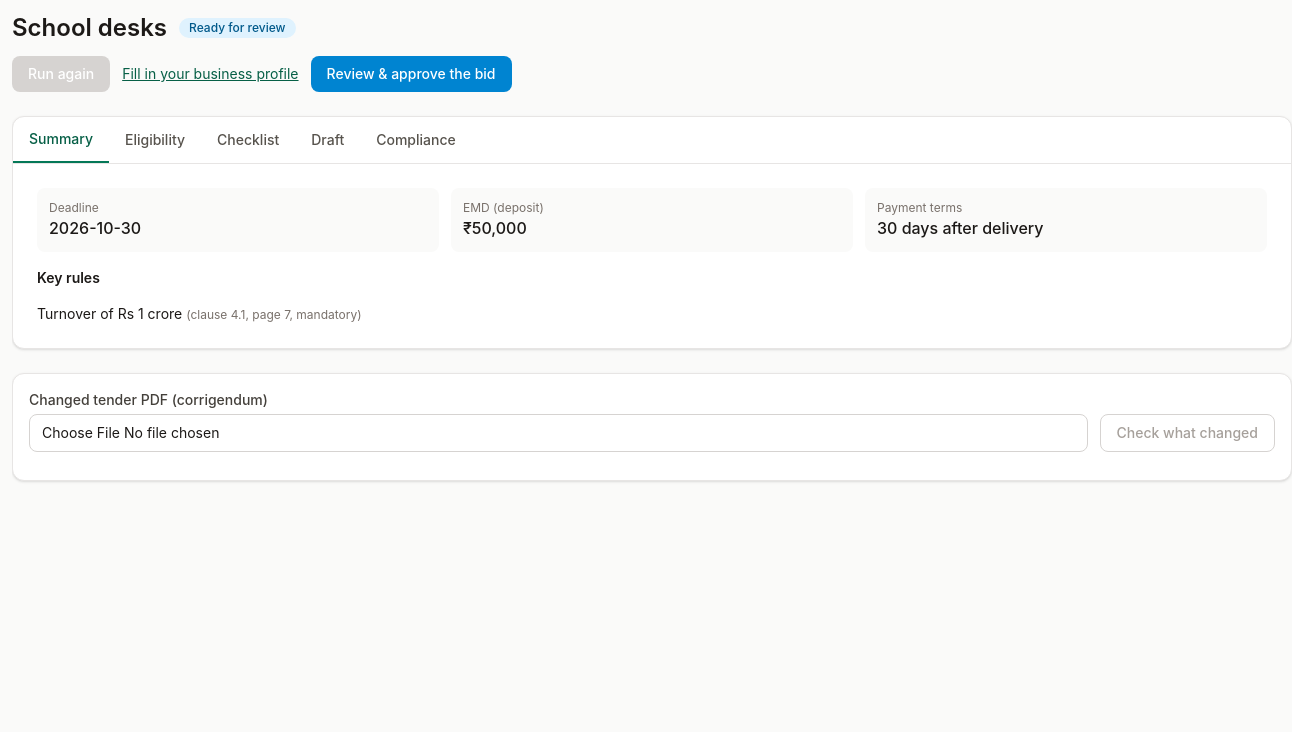
checklist tab lists the concessions the business can claim
The image size is (1292, 732).
Click the tab "Checklist": (248, 140) [201,117,295,163]
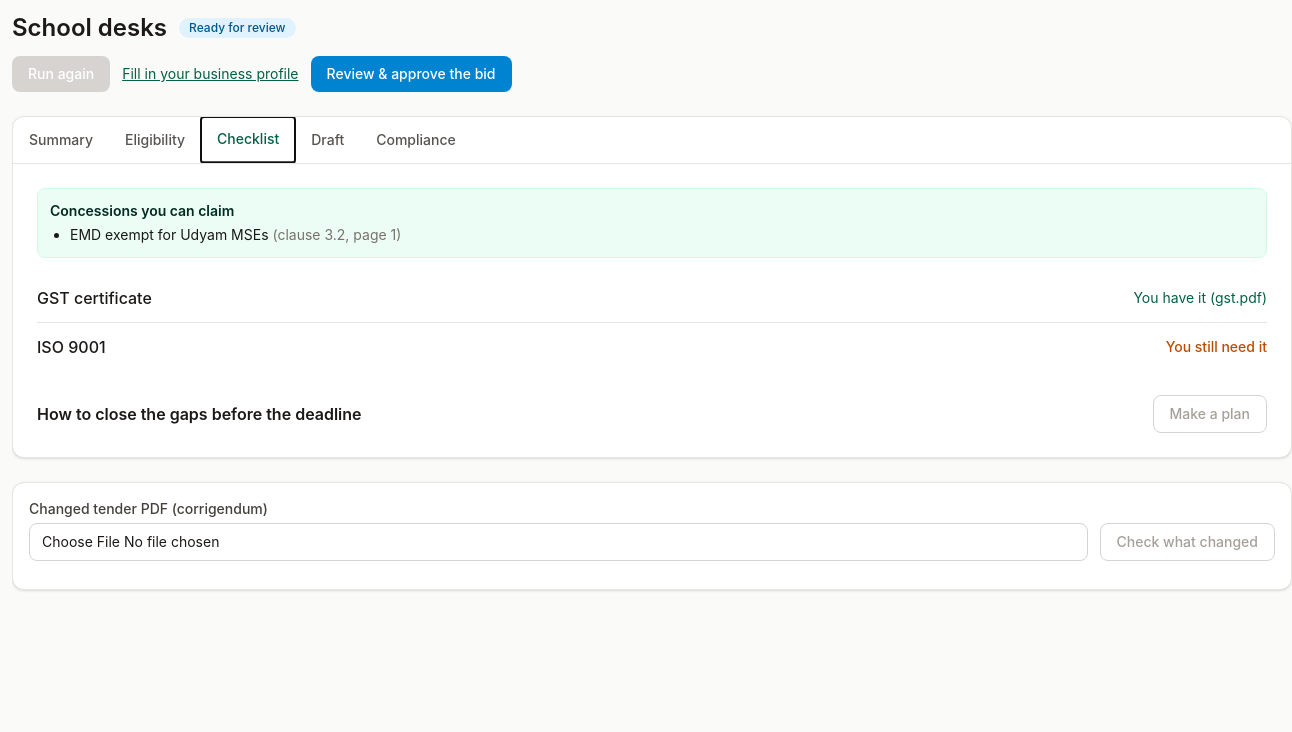
Now the heading "Concessions you can claim" is shown, box [50,202,234,219]
Now the list item "EMD exempt for Udyam MSEs (clause 3.2, page 1)" is shown, box [70,226,401,243]
